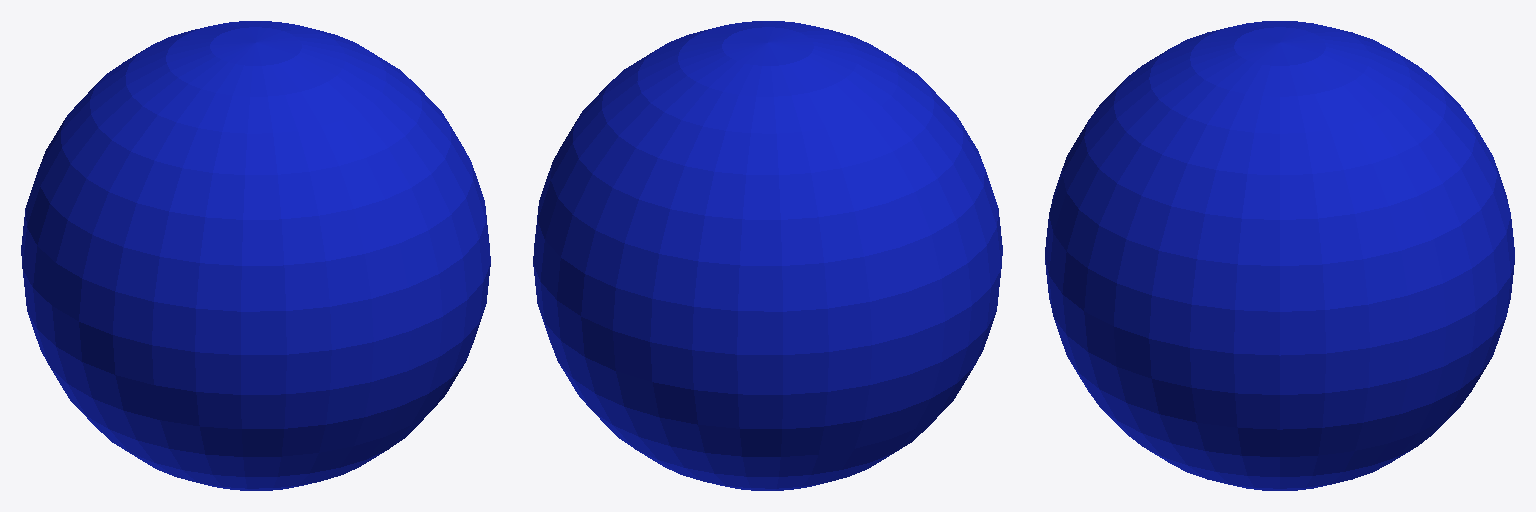
The model's file is sphere-flat.obj.
3 views of the same model, side by side, from view 1: azimuth 30°, elevation 25°; view 2: azimuth 150°, elevation 25°; view 3: azimuth 270°, elevation 25° (orthographic).
Visible parts, largest first — view 1: Sphere_Flat; view 2: Sphere_Flat; view 3: Sphere_Flat.
Boxes of the visible parts, box(x1,y1,x2,y2) form: Sphere_Flat: box(21, 21, 490, 490); Sphere_Flat: box(533, 21, 1002, 490); Sphere_Flat: box(1045, 21, 1514, 490).
Bounding box in the file's own units: 4 × 4 × 4.